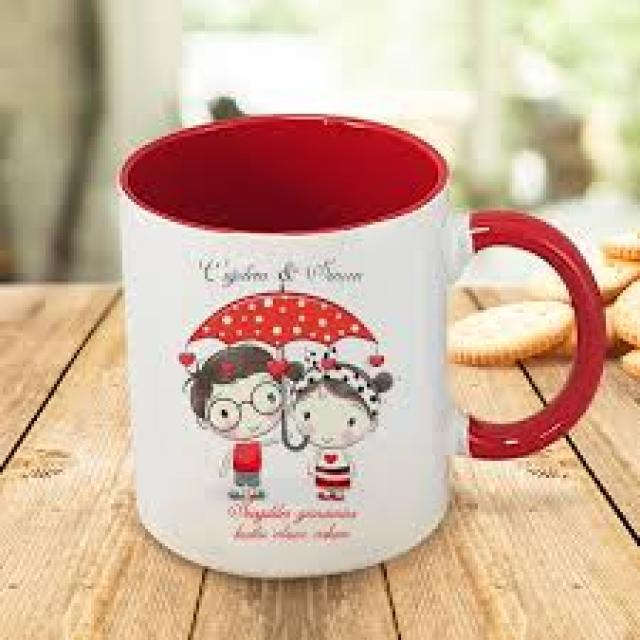taza: (116, 110, 606, 580)
